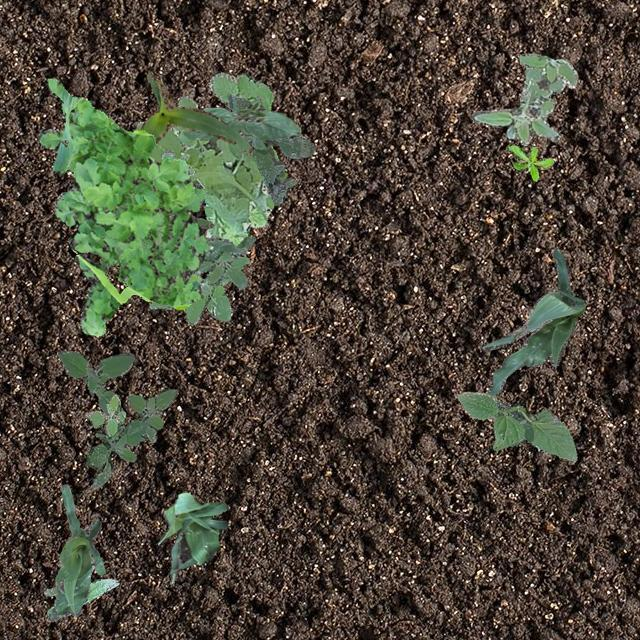crop: (482, 247, 584, 396), (140, 72, 252, 156), (456, 390, 576, 460), (48, 484, 104, 620), (157, 492, 226, 582), (183, 98, 300, 138)
weed: (36, 77, 212, 336), (132, 72, 286, 245), (56, 349, 178, 488), (227, 94, 315, 204), (471, 52, 576, 144), (148, 256, 248, 324), (193, 216, 254, 288), (42, 578, 118, 614), (84, 394, 124, 436), (508, 143, 552, 180), (160, 148, 193, 174)
